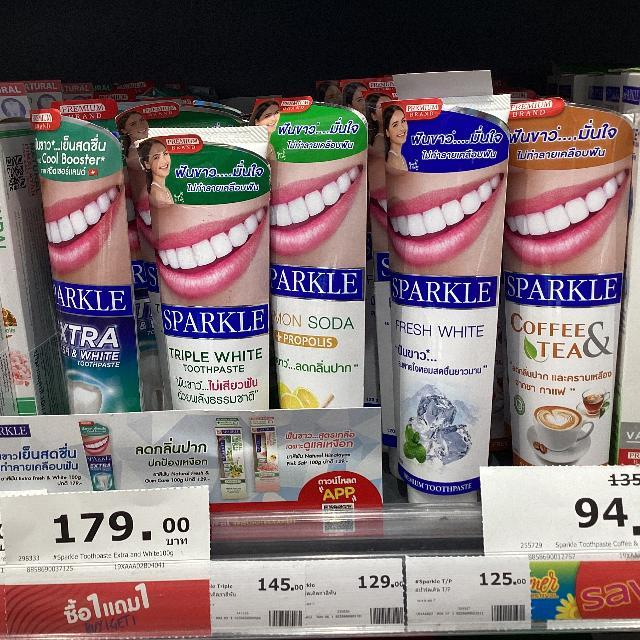Squeeze Tube: (1, 43, 640, 545), (391, 99, 514, 501), (502, 101, 622, 478), (141, 118, 265, 437), (31, 106, 146, 428), (262, 112, 371, 413)
